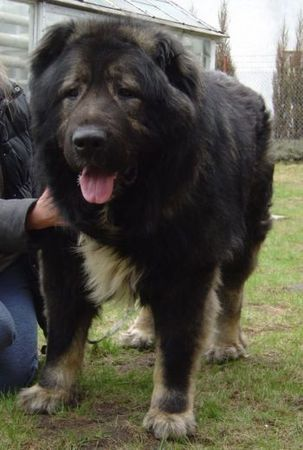cau_ovcharka: (16, 15, 274, 446)
person: (0, 55, 72, 390)
